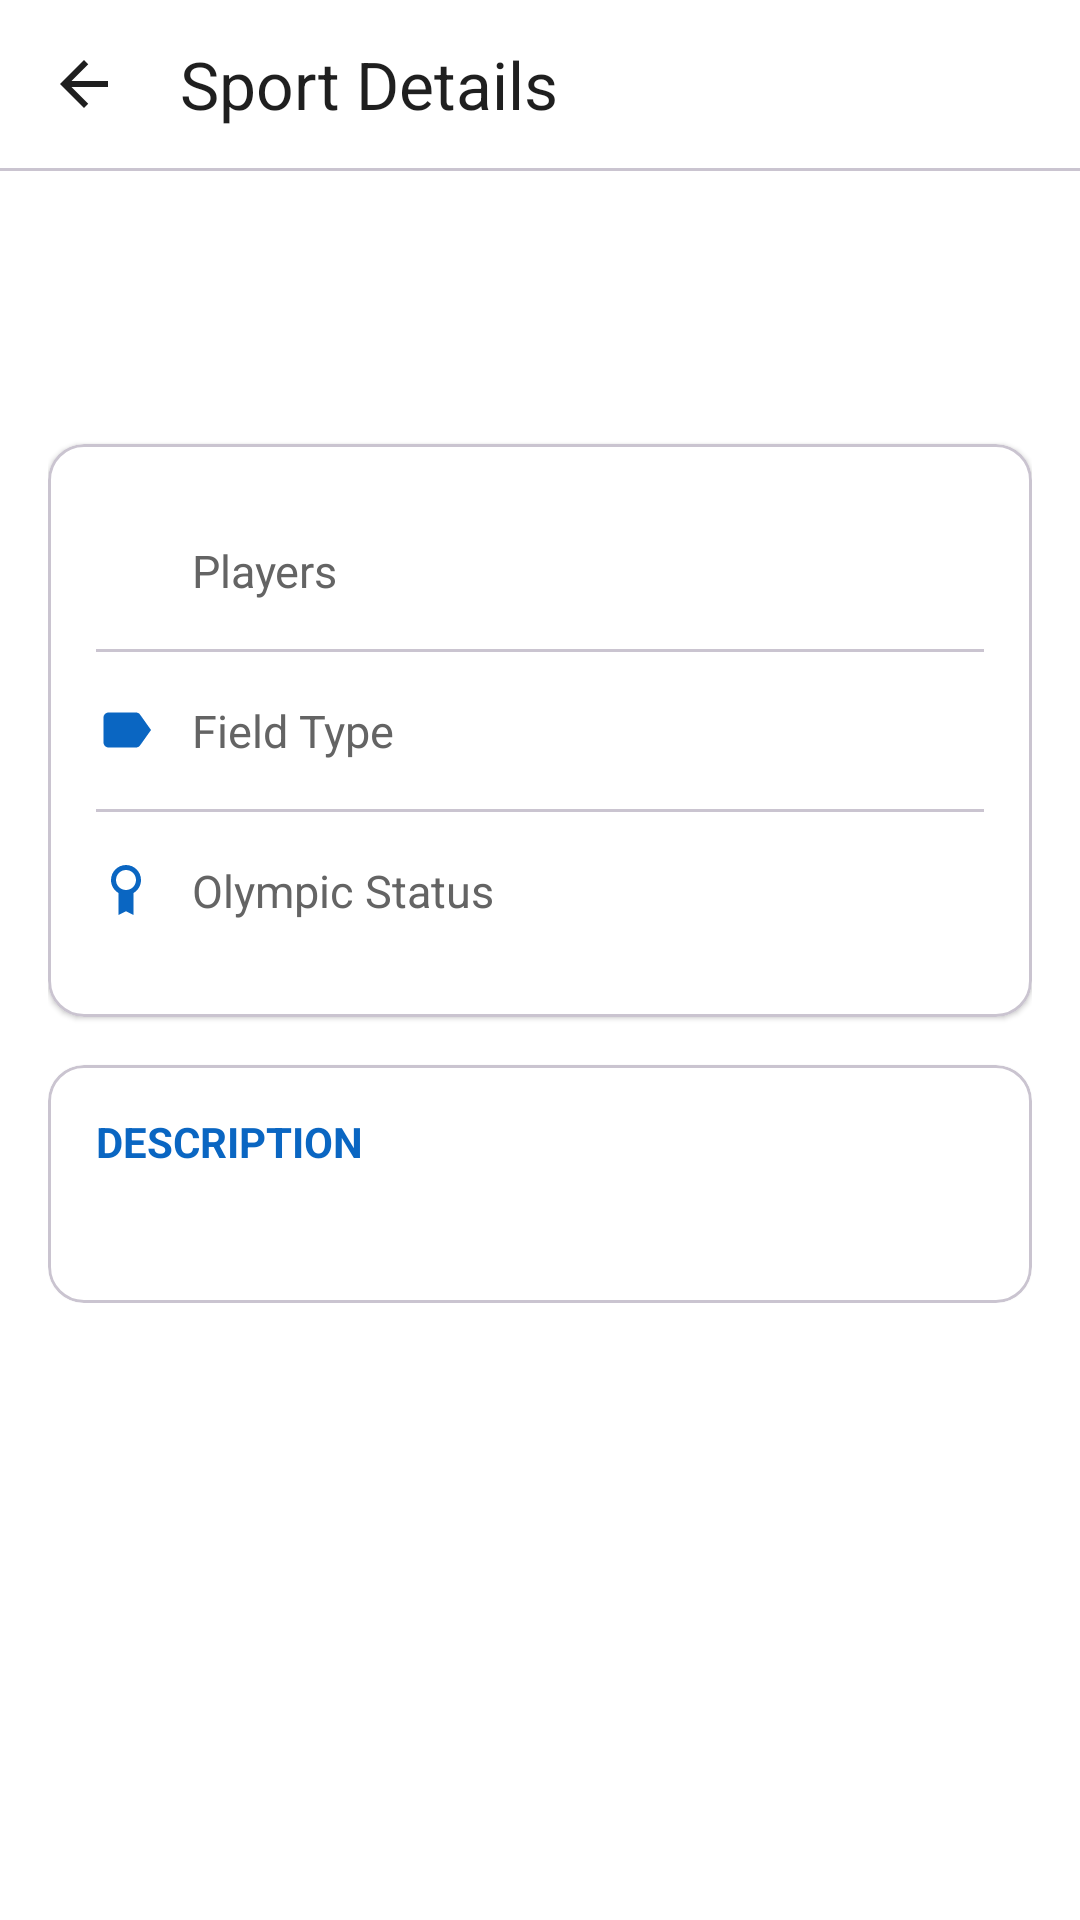

Icons on this 1080*1920 Android screen, each with the point to tap as [x,y]:
award: [126,890]
tag: [127,730]
